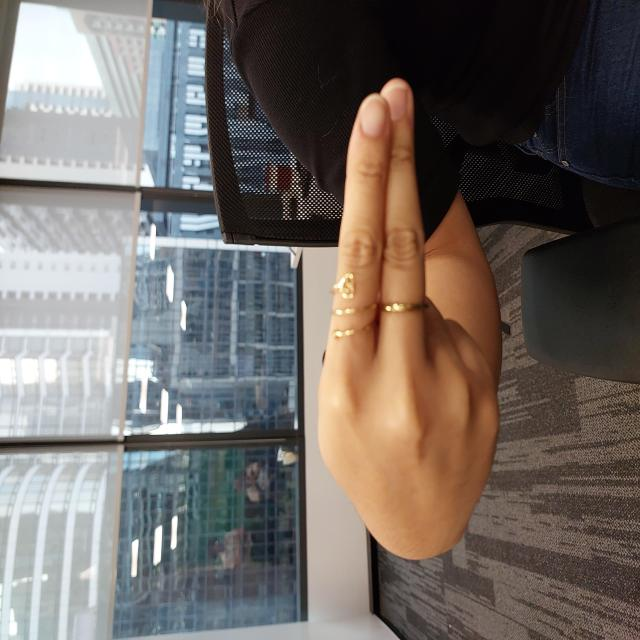H: (77, 315, 564, 502)
